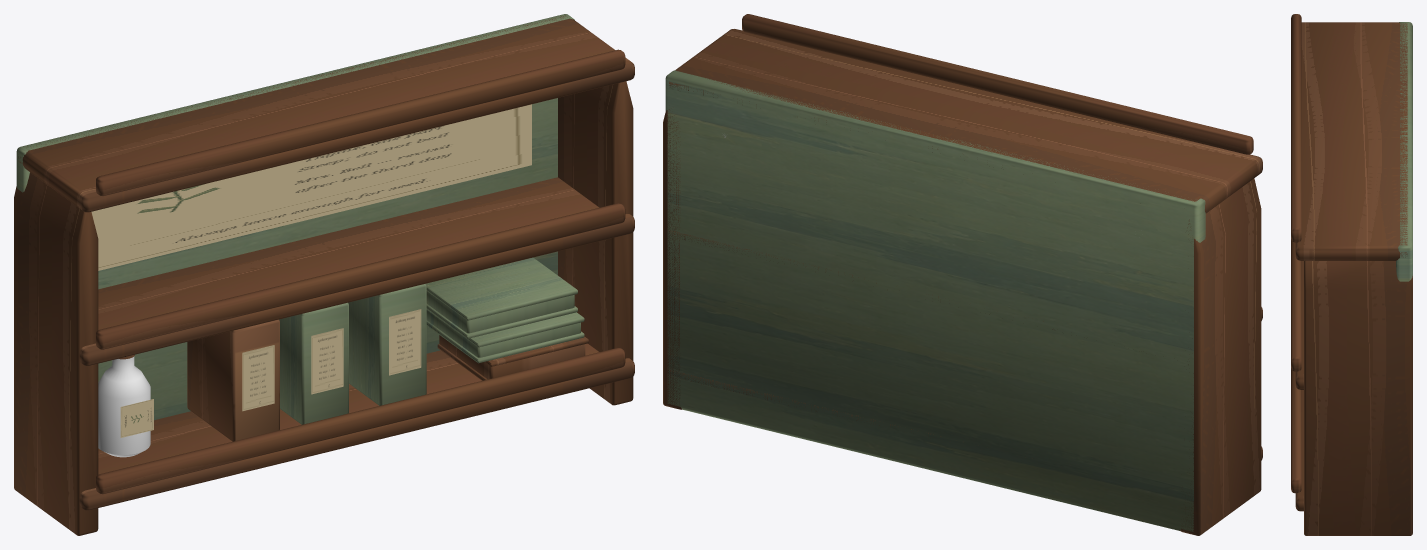
File: CM_LI03_RecordShelf.fbx
3 renders of one model, left to right at view 1: azimuth 30°, elevation 25°; view 2: azimuth 150°, elevation 25°; view 3: azimuth 270°, elevation 25°, orthographic. The views are drawn at different scales.
Parts seen in each view (by area): view 1: CM_LI03_RecordShelf; view 2: CM_LI03_RecordShelf; view 3: CM_LI03_RecordShelf.
Boxes of the visible parts, x1,y1,x2,y2 form: CM_LI03_RecordShelf: [14, 14, 634, 535]; CM_LI03_RecordShelf: [663, 14, 1262, 535]; CM_LI03_RecordShelf: [1291, 14, 1412, 535].
Bounding box in the file's own units: 1.29 × 0.795 × 0.2905.
